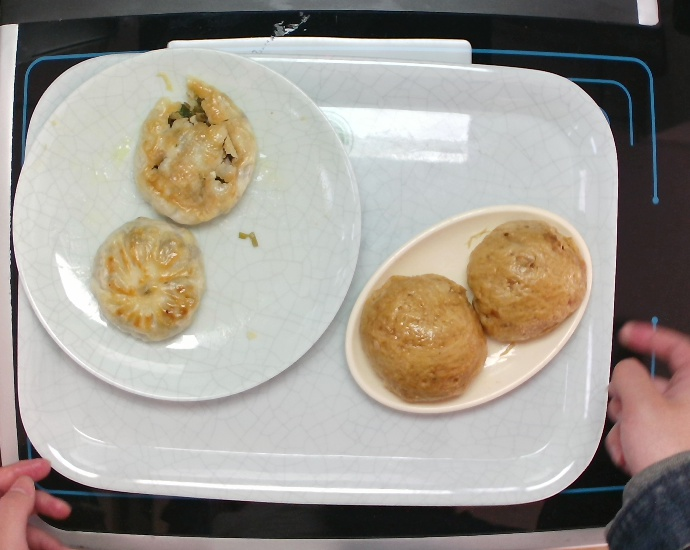JYsf-Da_Yuan_Pan: (1, 40, 368, 410)
JYsf-Tuo_Yuan_Wan: (340, 201, 596, 418)
